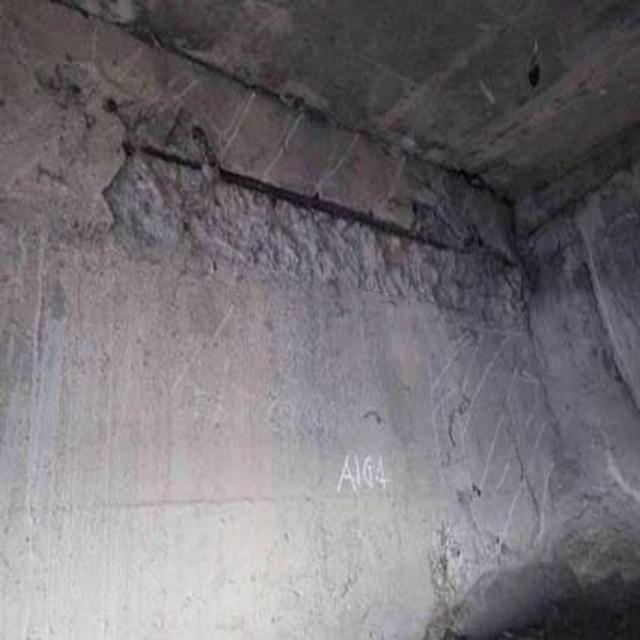spalling: (37, 64, 576, 356)
